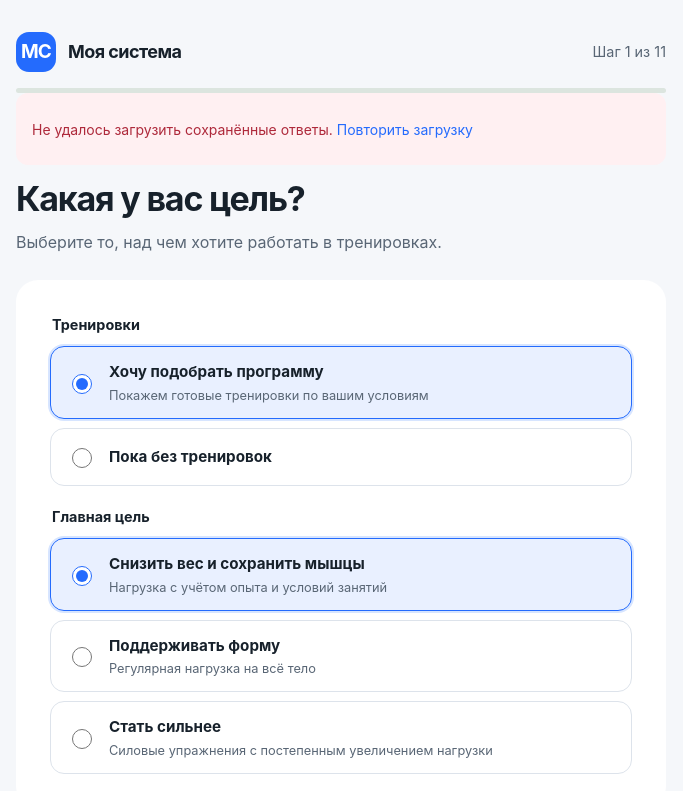
it: saved answers load failure is visible and recoverable before continuing
This screenshot has width=683, height=791.
Expected: the message shows "Не удалось загрузить сохранённые ответы.", [32,120,333,138]
Click the button "Повторить загрузку" at (405, 129), box [337,107,473,151]
(page scrolled)
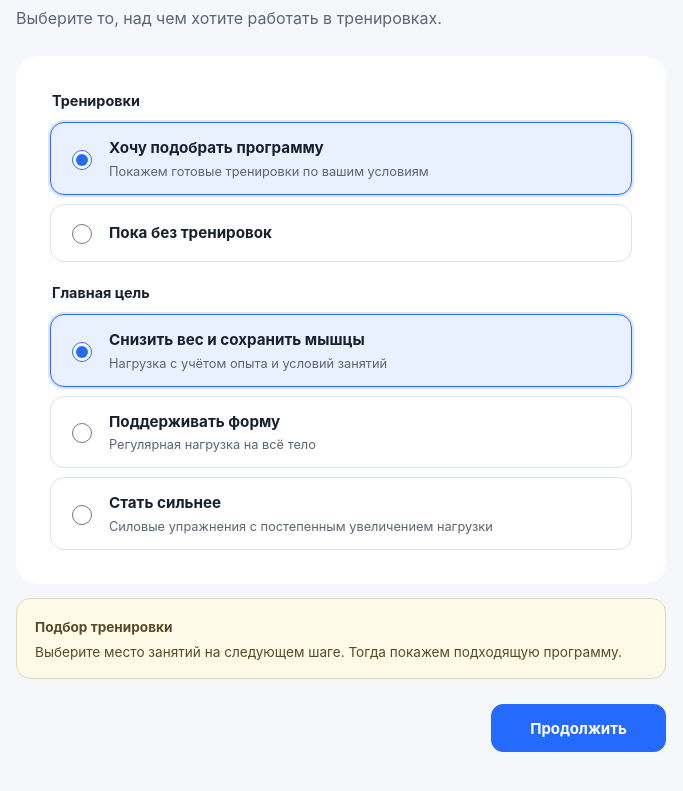
Expected: the button "Продолжить" is enabled, [491,704,666,752]
Expected: the text "Не удалось загрузить сохранённые ответы." is gone
